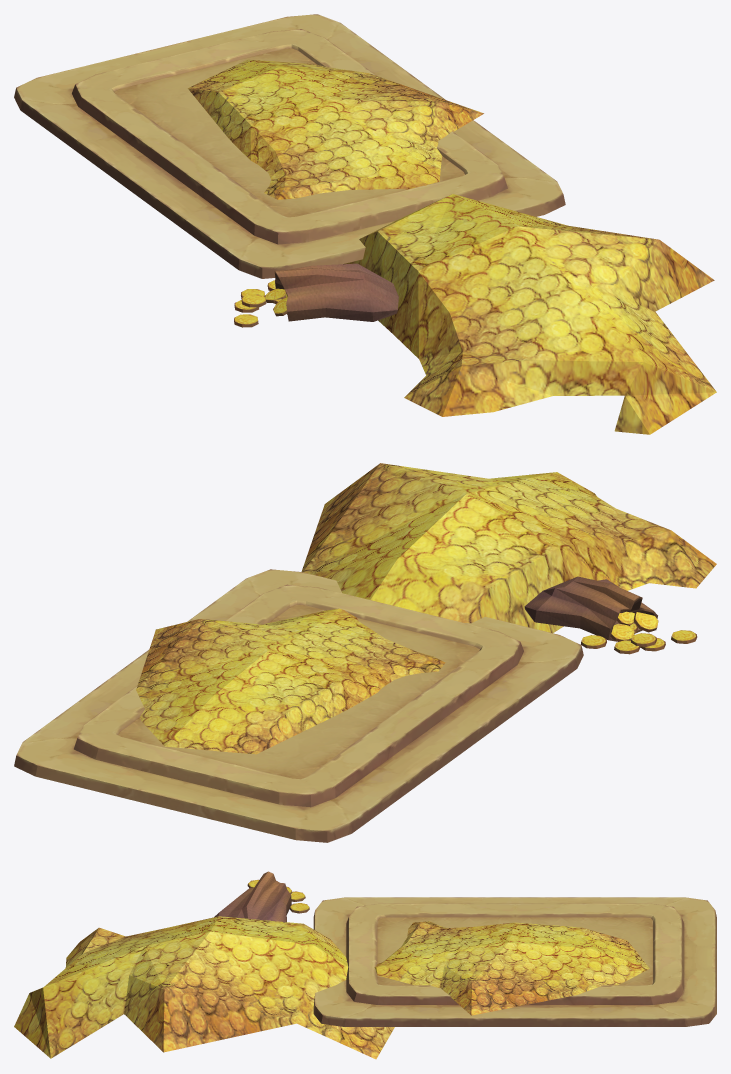
File: Area_07_20.fbx
3 views of the same model, one above another, from view 1: azimuth 30°, elevation 25°; view 2: azimuth 150°, elevation 25°; view 3: azimuth 270°, elevation 25° (orthographic). The views are drawn at different scales.
Parts seen in each view (by area): view 1: Area_07_20; view 2: Area_07_20; view 3: Area_07_20.
Boxes of the visible parts, <box> form: Area_07_20: <box>14,14,716,434</box>; Area_07_20: <box>14,463,716,842</box>; Area_07_20: <box>14,871,716,1059</box>.
Size of the model in its own units: 515 by 139 by 956.
